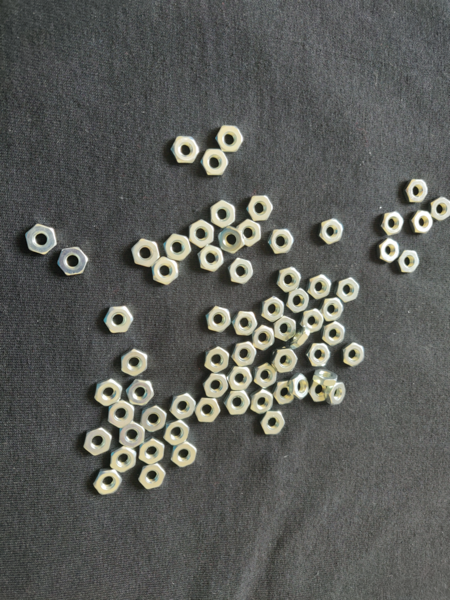nut: (26, 224, 57, 255), (57, 247, 89, 275), (84, 428, 113, 456), (126, 378, 155, 406), (164, 233, 192, 262), (104, 306, 134, 333), (121, 348, 148, 378), (152, 256, 179, 286), (132, 239, 160, 267), (171, 136, 199, 164), (216, 125, 244, 153), (140, 404, 167, 433), (109, 446, 136, 474), (95, 379, 122, 407), (217, 226, 244, 254), (94, 470, 123, 496), (108, 400, 134, 429), (198, 245, 225, 272), (205, 306, 232, 333), (162, 420, 190, 446), (201, 149, 229, 175), (204, 346, 230, 374), (139, 437, 164, 466), (189, 220, 214, 249), (211, 200, 236, 229), (119, 422, 145, 449), (139, 464, 166, 490), (170, 393, 196, 420), (268, 229, 295, 255), (237, 219, 262, 247), (203, 373, 229, 399), (272, 348, 298, 374), (171, 442, 198, 467), (247, 196, 274, 221), (320, 218, 344, 246), (229, 258, 254, 284), (195, 398, 221, 423), (233, 310, 258, 336), (227, 367, 253, 392), (231, 342, 257, 367), (224, 391, 251, 415), (277, 267, 301, 293), (322, 321, 346, 347), (254, 362, 277, 389), (308, 275, 332, 300), (320, 297, 344, 322), (381, 211, 405, 236), (262, 296, 285, 322), (253, 325, 275, 352), (300, 309, 324, 333), (405, 179, 429, 203), (260, 412, 285, 435), (286, 289, 309, 314), (336, 278, 359, 303), (252, 389, 274, 415), (274, 316, 296, 342), (273, 380, 295, 405), (307, 344, 330, 367), (286, 327, 310, 349), (325, 380, 346, 405), (379, 239, 400, 264), (289, 373, 308, 400), (398, 250, 420, 273), (411, 211, 433, 234), (344, 343, 365, 367), (431, 198, 450, 222), (314, 370, 338, 387), (309, 382, 327, 402)
